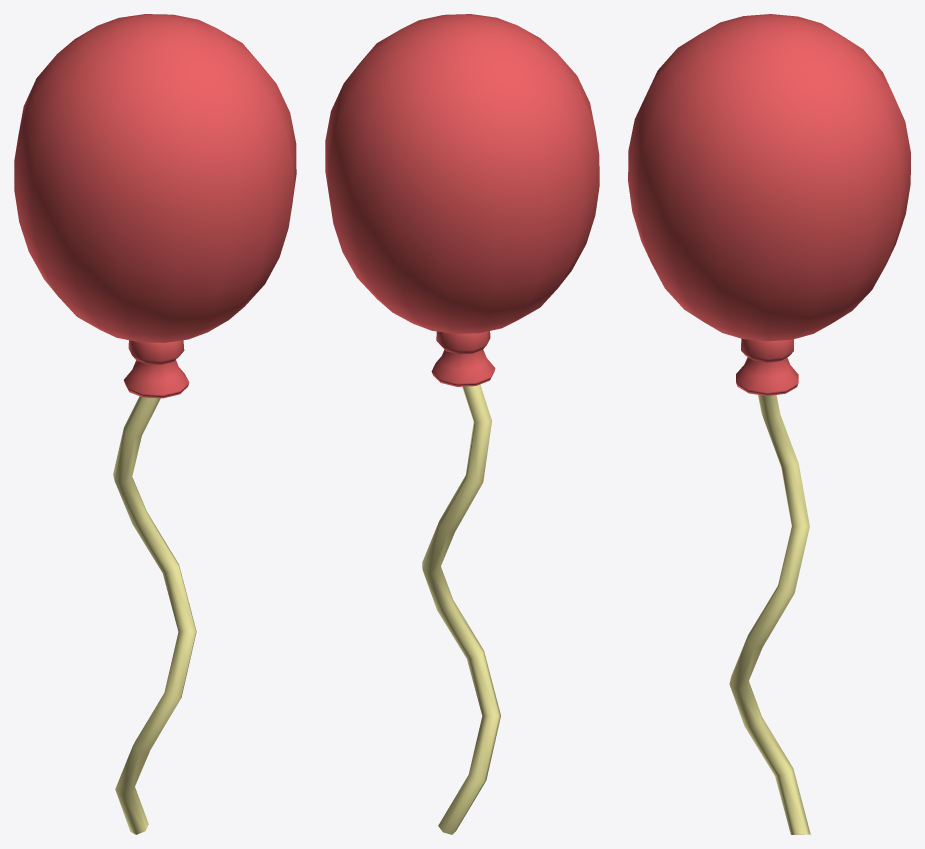
The model's file is Baloon.fbx.
The picture shows the model from 3 angles, left to right: view 1: azimuth 30°, elevation 25°; view 2: azimuth 150°, elevation 25°; view 3: azimuth 270°, elevation 25°; orthographic projection. The views are drawn at different scales.
Parts seen in each view (by area): view 1: Baloon, string1; view 2: Baloon, string1; view 3: Baloon, string1.
Part boxes in pixels (box(x1,y1,x2,y2)): Baloon: box(14, 14, 296, 398); string1: box(113, 396, 196, 834); Baloon: box(325, 14, 599, 386); string1: box(422, 384, 500, 834); Baloon: box(628, 14, 910, 395); string1: box(729, 395, 810, 834).
Size of the model in its own units: 52.98 by 168 by 53.01.
